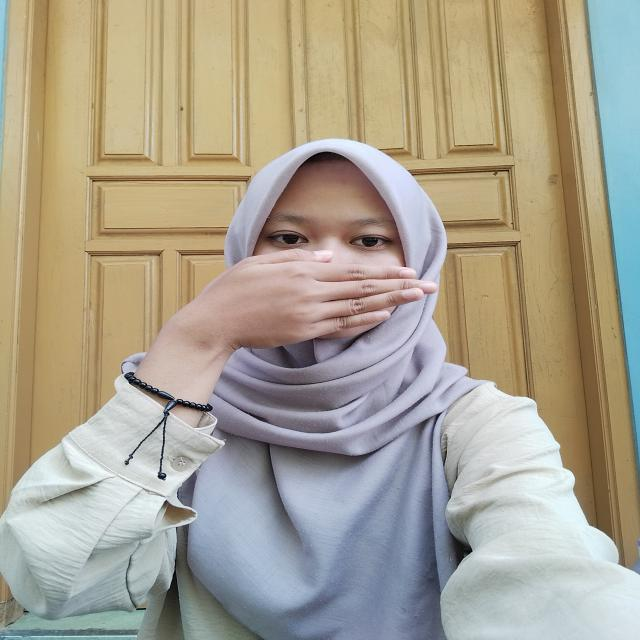buruk: (138, 245, 446, 374)
